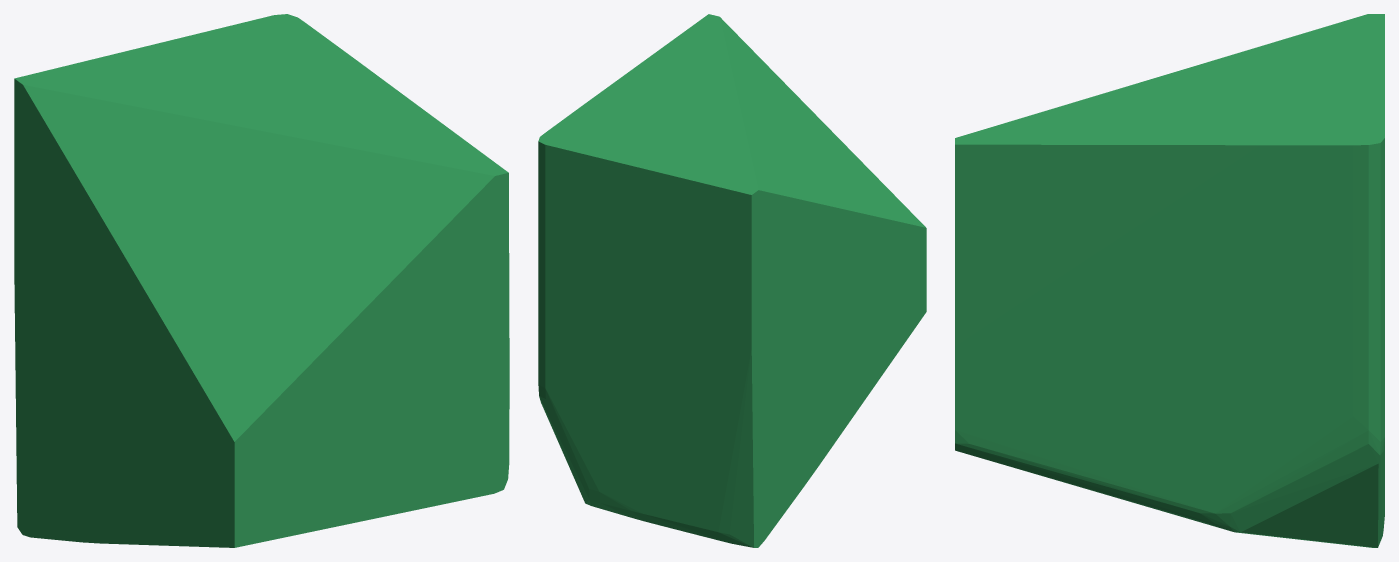
Rendered from left_palm_part_10.obj.
3 renders of one model, left to right at view 1: azimuth 30°, elevation 25°; view 2: azimuth 150°, elevation 25°; view 3: azimuth 270°, elevation 25°, orthographic. The views are drawn at different scales.
Size of the model in its own units: 10.6 by 16.58 by 14.67.
